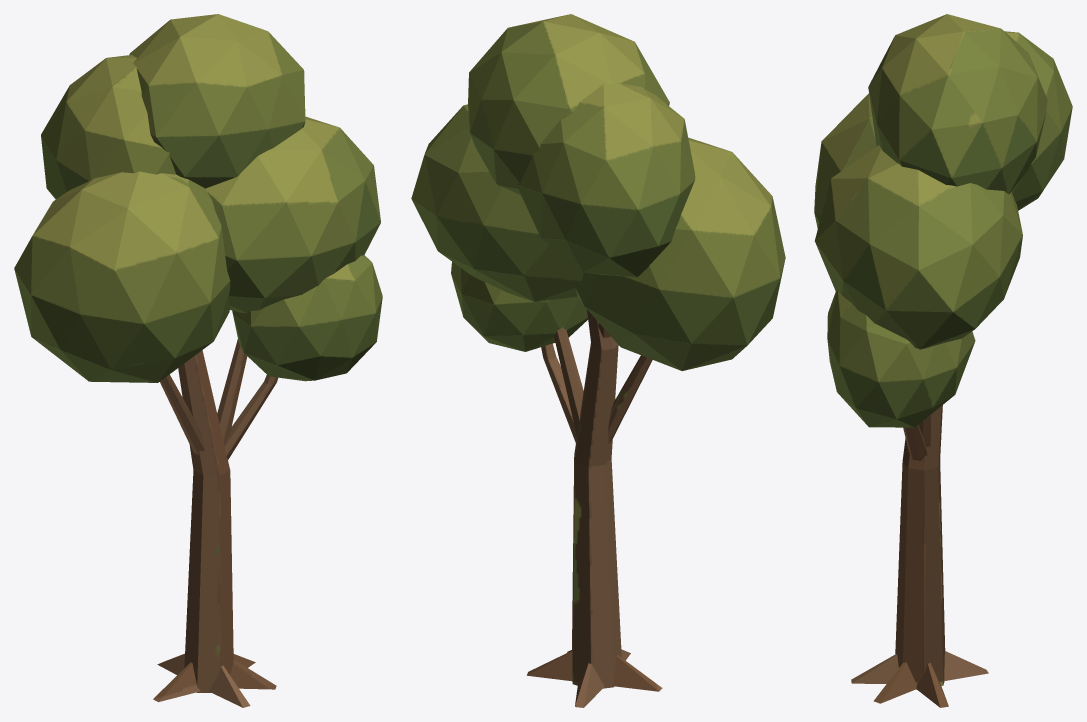
The model's file is tree-oak.glb.
The picture shows the model from 3 angles, left to right: view 1: azimuth 30°, elevation 25°; view 2: azimuth 150°, elevation 25°; view 3: azimuth 270°, elevation 25°; orthographic projection. The views are drawn at different scales.
Parts seen in each view (by area): view 1: tree-oak; view 2: tree-oak; view 3: tree-oak.
Part boxes in pixels (x1,y1,x2,y2): tree-oak: [14, 14, 382, 707]; tree-oak: [411, 14, 785, 707]; tree-oak: [814, 14, 1072, 707].
Size of the model in its own units: 3.96 by 7.15 by 2.53.
1 material, 1 textured.
